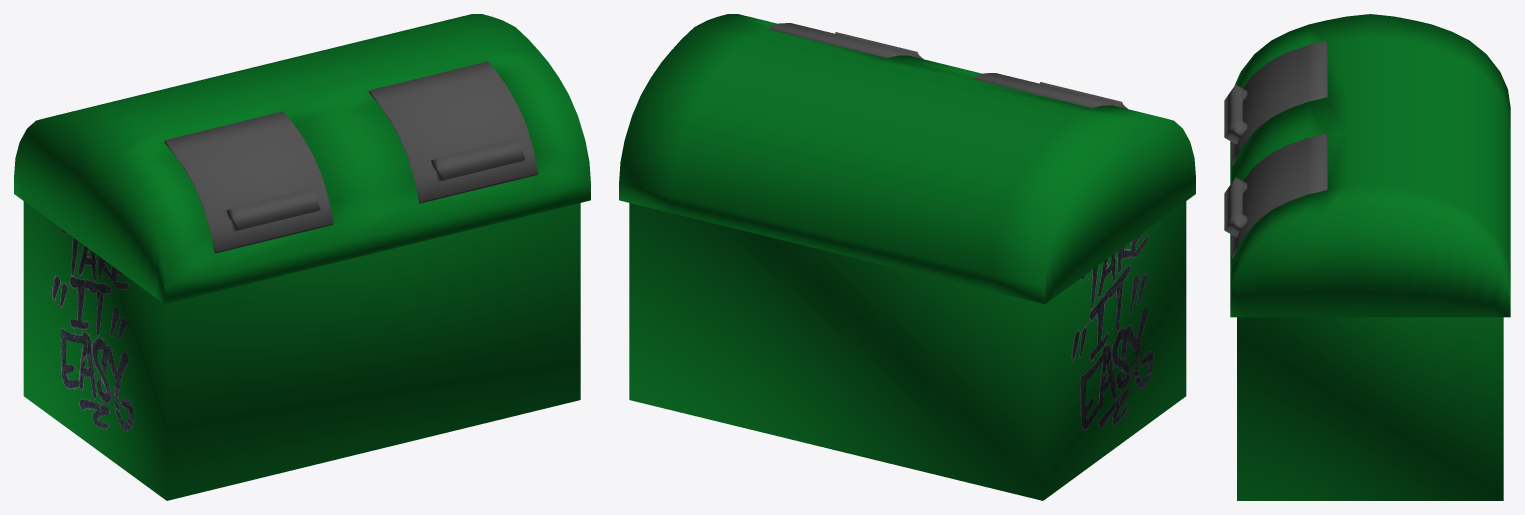
The model's file is CityTrashbin.fbx.
3 renders of one model, left to right at view 1: azimuth 30°, elevation 25°; view 2: azimuth 150°, elevation 25°; view 3: azimuth 270°, elevation 25°, orthographic. The views are drawn at different scales.
Parts seen in each view (by area): view 1: Casing, Top, Door_R, Door_L; view 2: Casing, Top, Door_L, Door_R; view 3: Top, Casing, Door_L, Door_R.
Boxes of the visible parts, x1=… form: Casing: x1=23, y1=201, x2=580, y2=500; Top: x1=14, y1=14, x2=590, y2=304; Door_R: x1=368, y1=61, x2=538, y2=203; Door_L: x1=164, y1=111, x2=333, y2=253; Casing: x1=629, y1=201, x2=1186, y2=500; Top: x1=619, y1=14, x2=1195, y2=304; Door_L: x1=974, y1=73, x2=1127, y2=108; Door_R: x1=769, y1=23, x2=923, y2=59; Top: x1=1230, y1=14, x2=1510, y2=317; Casing: x1=1237, y1=317, x2=1503, y2=500; Door_L: x1=1224, y1=41, x2=1327, y2=165; Door_R: x1=1224, y1=134, x2=1327, y2=258.
Bounding box in the file's own units: 515 × 368 × 322.
